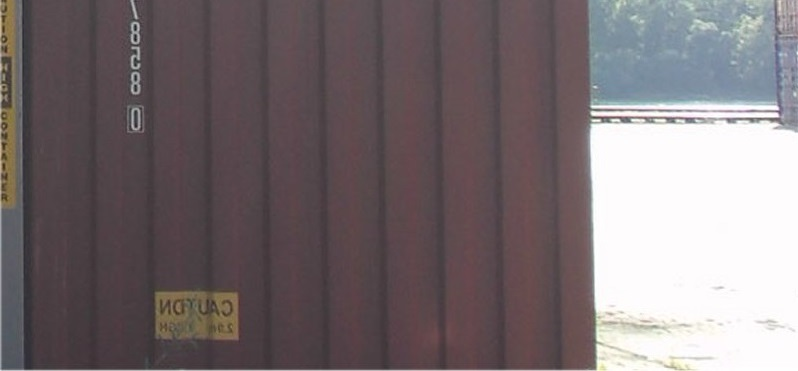container_no_door: (27, 1, 604, 370)
